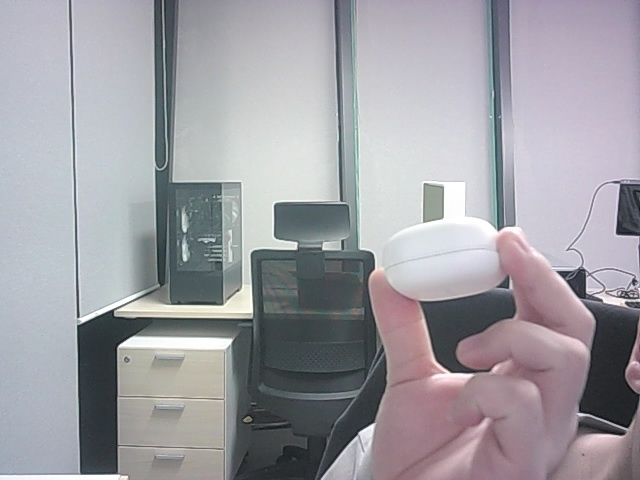case: (381, 217, 505, 301)
